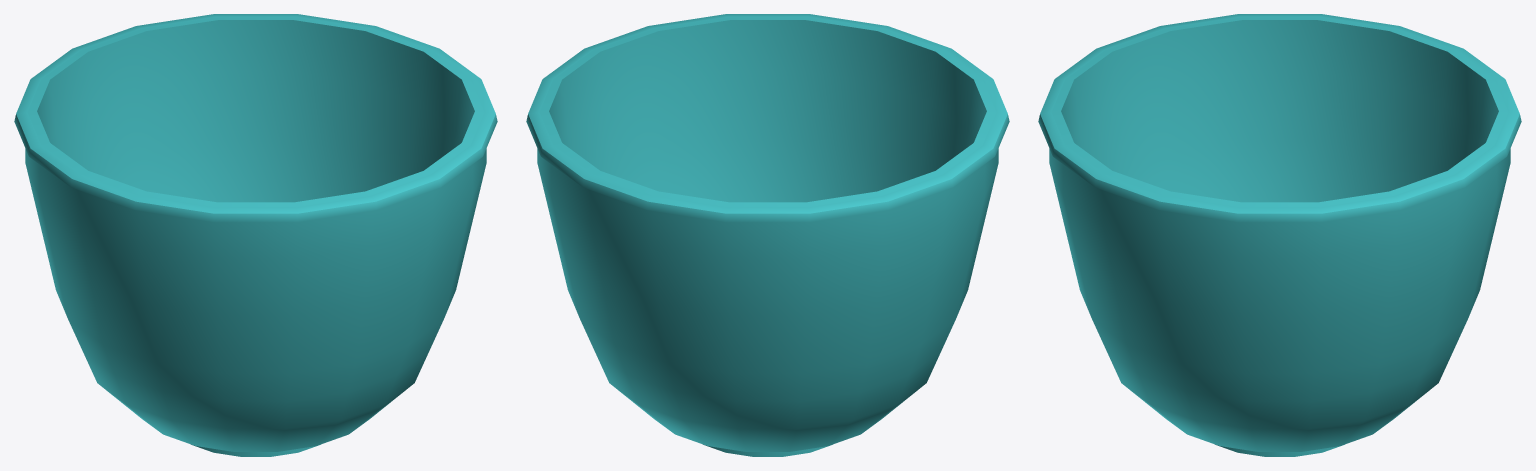
Rendered from SM_Bowl.fbx.
3 views of the same model, side by side, from view 1: azimuth 30°, elevation 25°; view 2: azimuth 150°, elevation 25°; view 3: azimuth 270°, elevation 25° (orthographic).
Visible parts, largest first — view 1: SM_Bowl; view 2: SM_Bowl; view 3: SM_Bowl.
Part boxes in pixels (x1=…): SM_Bowl: x1=14, y1=14, x2=497, y2=456; SM_Bowl: x1=526, y1=14, x2=1009, y2=456; SM_Bowl: x1=1038, y1=14, x2=1521, y2=456.
Bounding box in the file's own units: 79.73 × 57.39 × 80.96.
